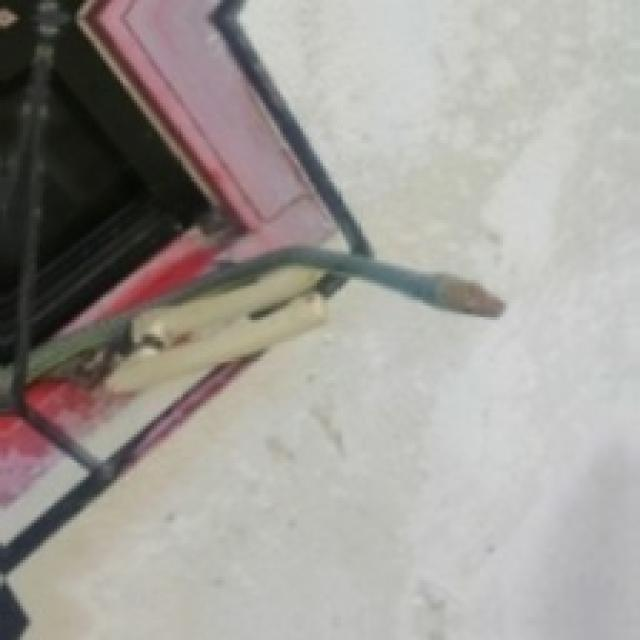paradise tree snake: (14, 286, 497, 637), (249, 3, 551, 297), (29, 246, 503, 391)
